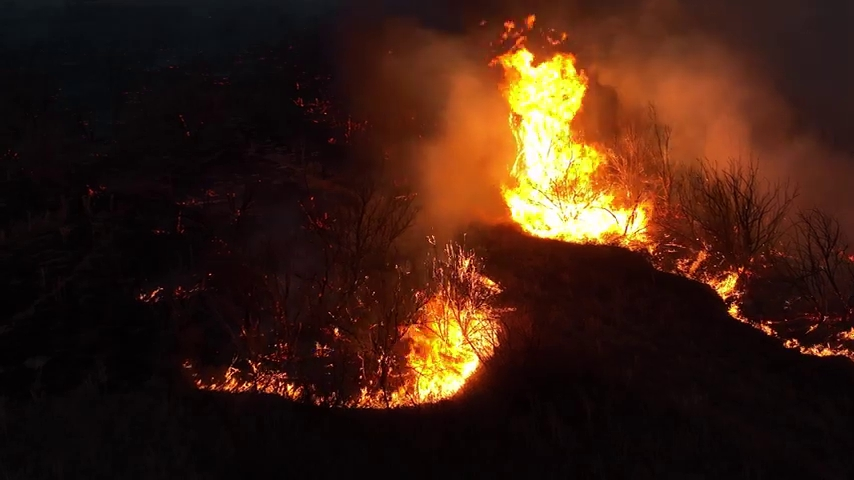forest_fire: (496, 46, 652, 251), (353, 242, 500, 407), (197, 367, 303, 397), (677, 251, 740, 301), (728, 303, 776, 336), (784, 340, 853, 357)
